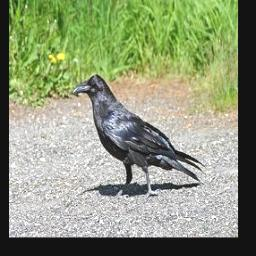Crow: (73, 73, 208, 202)
